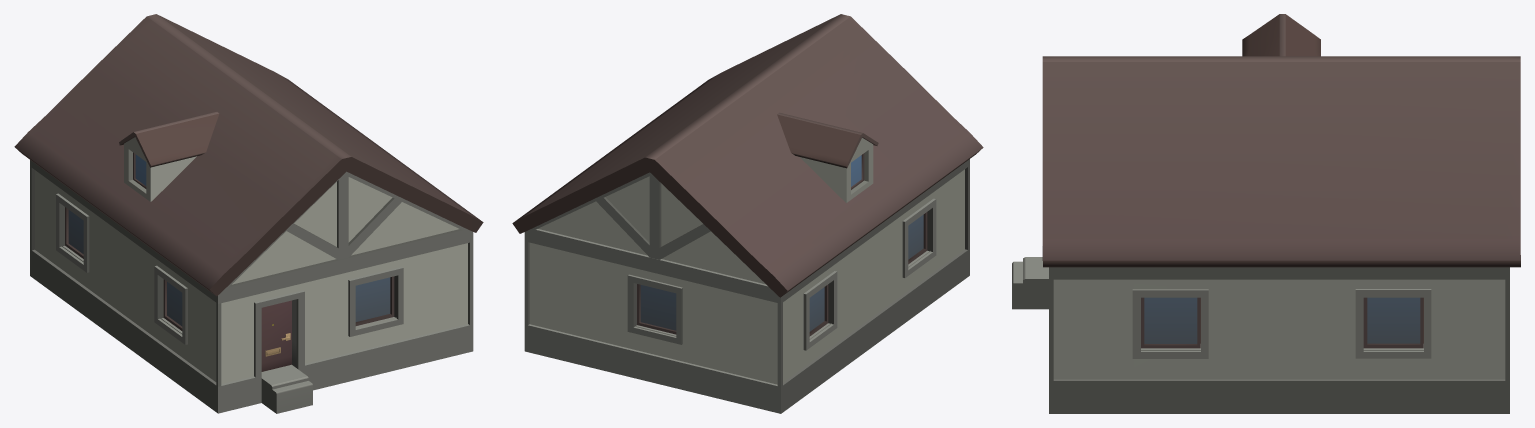
File: Residential_FamilyHome_alt02.glb
The picture shows the model from 3 angles, left to right: view 1: azimuth 30°, elevation 25°; view 2: azimuth 150°, elevation 25°; view 3: azimuth 270°, elevation 25°; orthographic projection. The views are drawn at different scales.
Parts seen in each view (by area): view 1: base.114, windowRefl.085; view 2: base.114, windowRefl.085; view 3: base.114, windowRefl.085.
Boxes of the visible parts, x1=… form: base.114: x1=14, y1=14, x2=483, y2=413; windowRefl.085: x1=68, y1=154, x2=390, y2=326; base.114: x1=512, y1=14, x2=983, y2=413; windowRefl.085: x1=640, y1=155, x2=923, y2=331; base.114: x1=1012, y1=14, x2=1520, y2=413; windowRefl.085: x1=1144, y1=297, x2=1420, y2=343.
Bounding box in the file's own units: 9.62 × 7.6 × 12.62.
